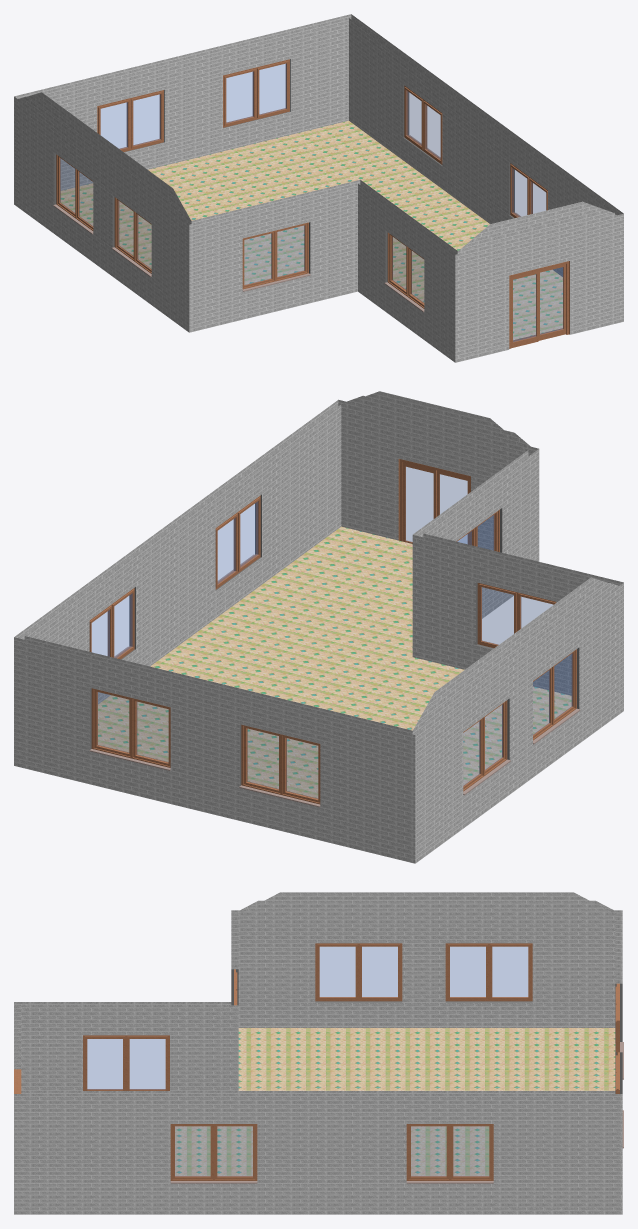
The model's file is telhado44a.gltf.
3 renders of one model, top to bottom at view 1: azimuth 30°, elevation 25°; view 2: azimuth 150°, elevation 25°; view 3: azimuth 270°, elevation 25°, orthographic. The views are drawn at different scales.
Visible parts, largest first — view 1: root; view 2: root; view 3: root.
Boxes of the visible parts, x1,y1,x2,y2 form: root: (14,14,623,362); root: (14,391,623,863); root: (14,892,623,1214).
Bounding box in the file's own units: 10.06 × 3.6 × 14.03.
Materials: 9 (3 with a texture image).
